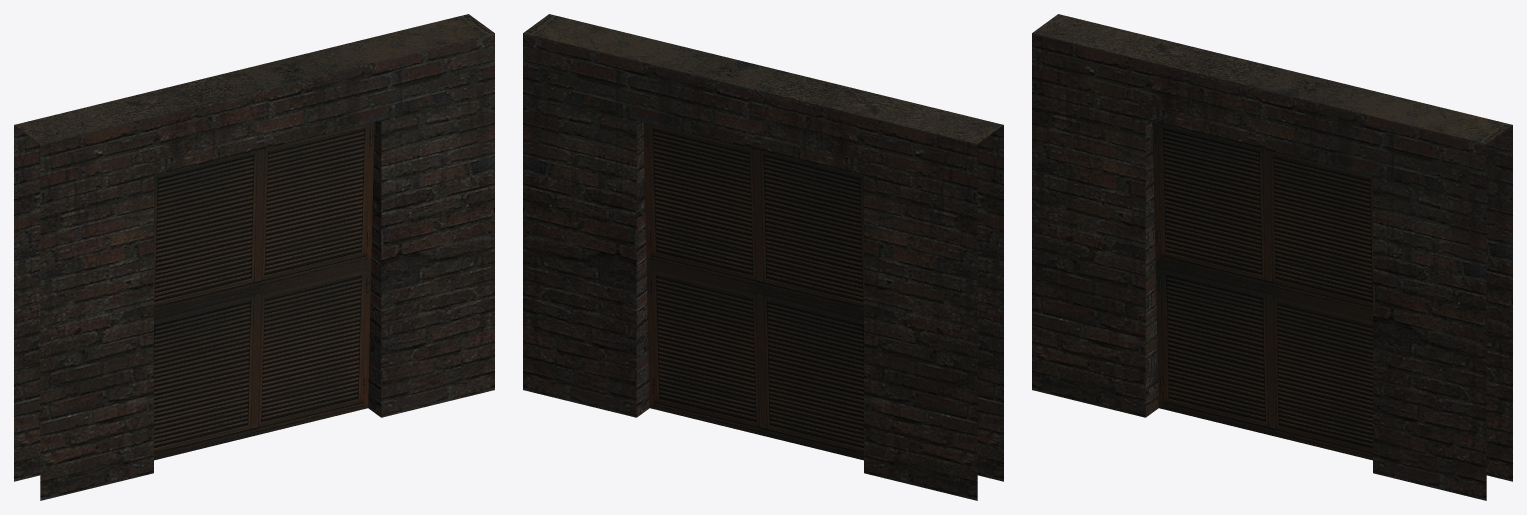
File: wall_hs_1_m_2.obj
3 renders of one model, left to right at view 1: azimuth 30°, elevation 25°; view 2: azimuth 150°, elevation 25°; view 3: azimuth 330°, elevation 25°, orthographic.
Parts seen in each view (by area): view 1: wall_hs_1_m_2; view 2: wall_hs_1_m_2; view 3: wall_hs_1_m_2.
Part boxes in pixels (box(x1,y1,x2,y2)): wall_hs_1_m_2: box(14, 14, 494, 500); wall_hs_1_m_2: box(523, 14, 1003, 500); wall_hs_1_m_2: box(1032, 14, 1512, 500).
Bounding box in the file's own units: 4 × 3 × 0.4.
